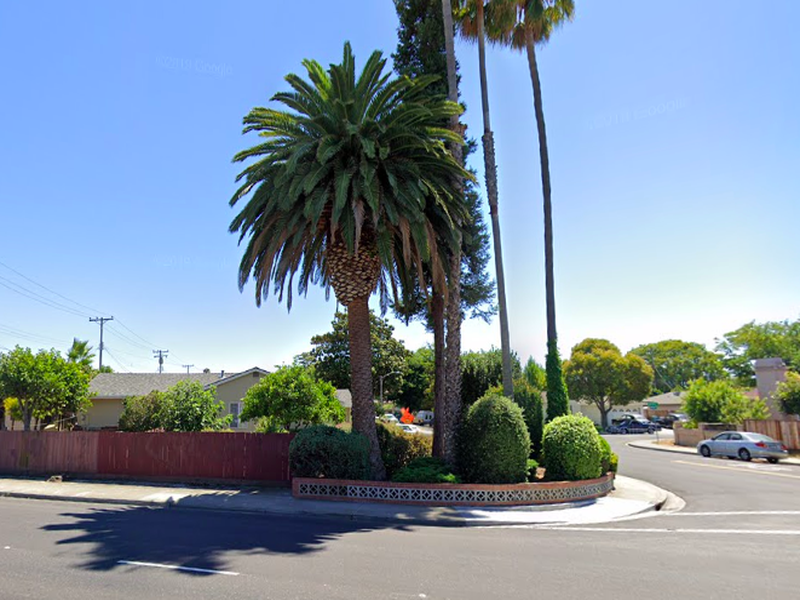tree: (228, 38, 479, 484)
